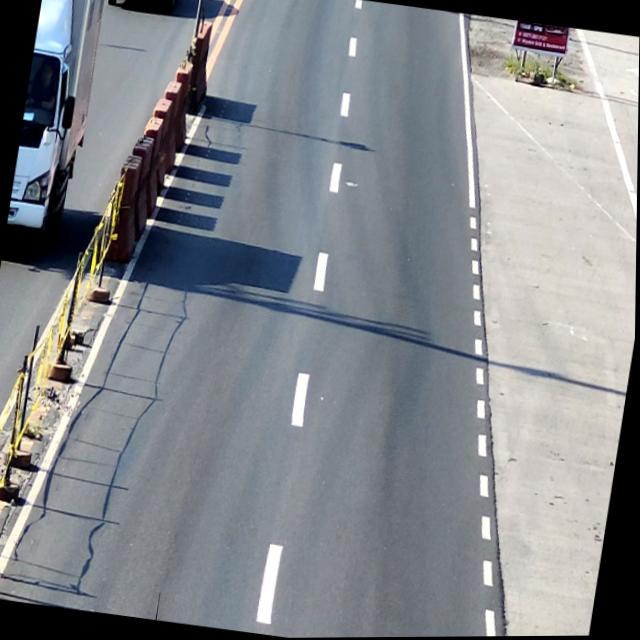Car: (108, 0, 183, 14)
Truck: (4, 0, 111, 253)
